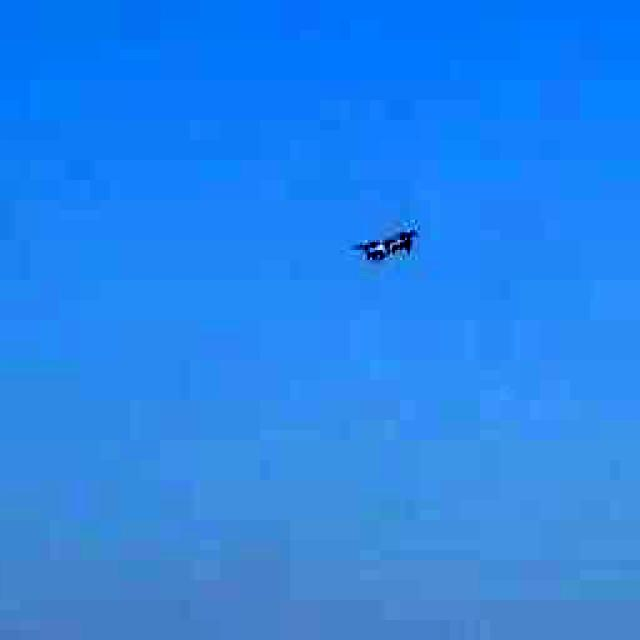bird: (319, 184, 451, 299)
